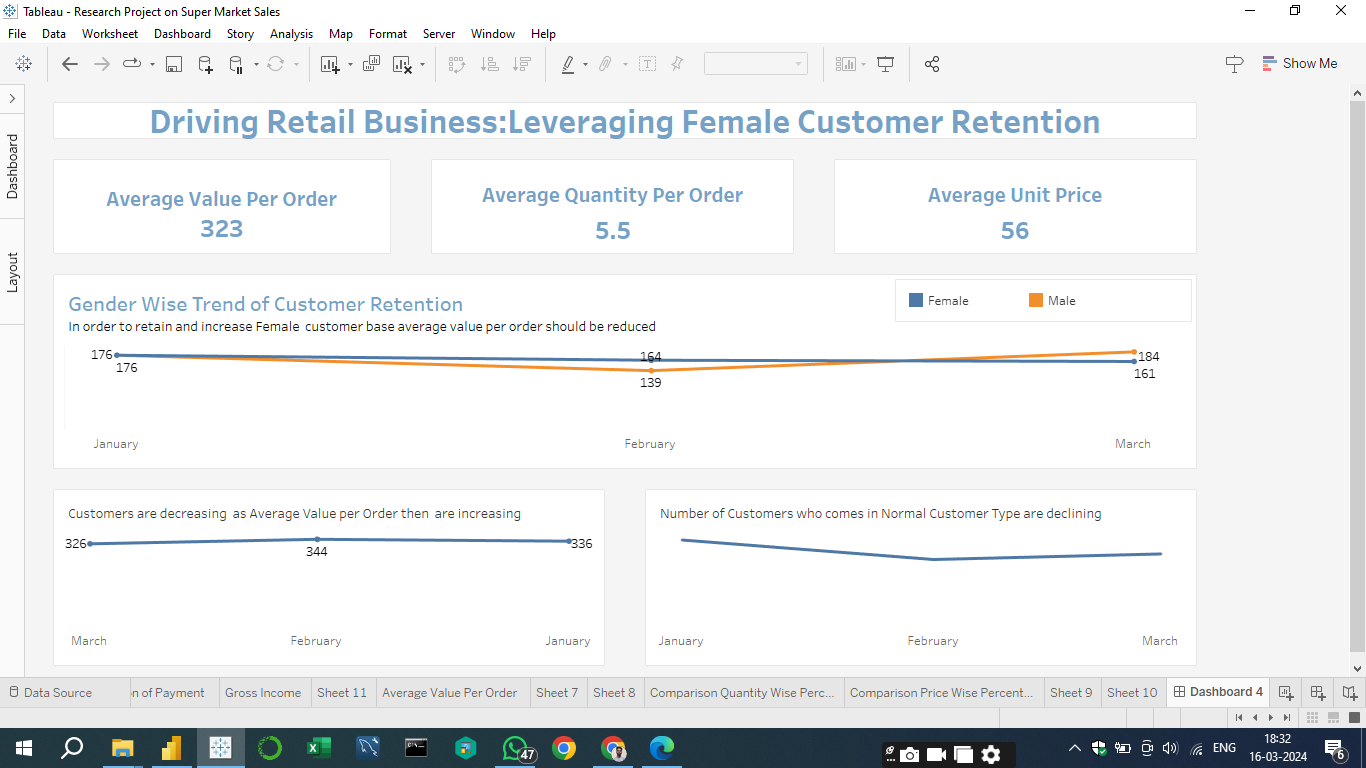

The page's visual inventory and layout, read from the dashboard file:
{"tool":"tableau","page":{"name":"Dashboard 4","canvas":[1200,600],"ordinal":0},"visuals":[{"type":"text","box":[8,8,1184,57]},{"type":"worksheet","title":"Average Value Per Order","mark":"Automatic","box":[8,65,378,115]},{"type":"worksheet","title":"Sheet 7","mark":"Automatic","box":[386,65,403,115]},{"type":"worksheet","title":"Sheet 8","mark":"Automatic","box":[789,65,403,115]},{"type":"worksheet","title":"Trend","mark":"Automatic","rows":["Invoice ID"],"cols":["Date"],"box":[8,180,1184,215]},{"type":"legend","title":"Trend","param":"[federated.0v9nj661h0pqju18g8syk0fuql52].[none:Gender:nk]","box":[870,195,297,43]},{"type":"worksheet","title":"Sheet 9","mark":"Automatic","rows":["Calculation_1347702241937457154"],"cols":["Date"],"box":[8,395,592,197]},{"type":"worksheet","title":"Sheet 11","mark":"Automatic","rows":["Invoice ID"],"cols":["Date"],"box":[600,395,592,197]}]}

Visuals, with their boxes on the page's 1200x600 design canvas (x1, y1, x2, y2). These are canvas units, not pixel positions in the 1366x768 screenshot, which may show the page scaled, cropped or inside an application window:
text: rect(8, 8, 1192, 65)
"Average Value Per Order" worksheet: rect(8, 65, 386, 180)
"Sheet 7" worksheet: rect(386, 65, 789, 180)
"Sheet 8" worksheet: rect(789, 65, 1192, 180)
"Trend" worksheet: rect(8, 180, 1192, 395)
"Trend" legend: rect(870, 195, 1167, 238)
"Sheet 9" worksheet: rect(8, 395, 600, 592)
"Sheet 11" worksheet: rect(600, 395, 1192, 592)
